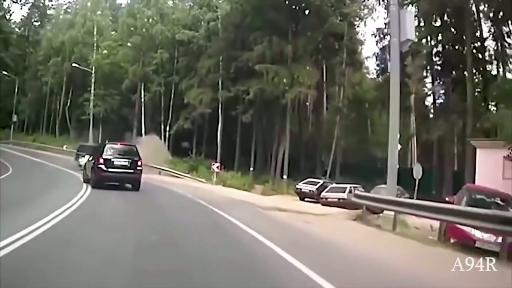CAR: (73, 127, 155, 201), (286, 175, 329, 201)
